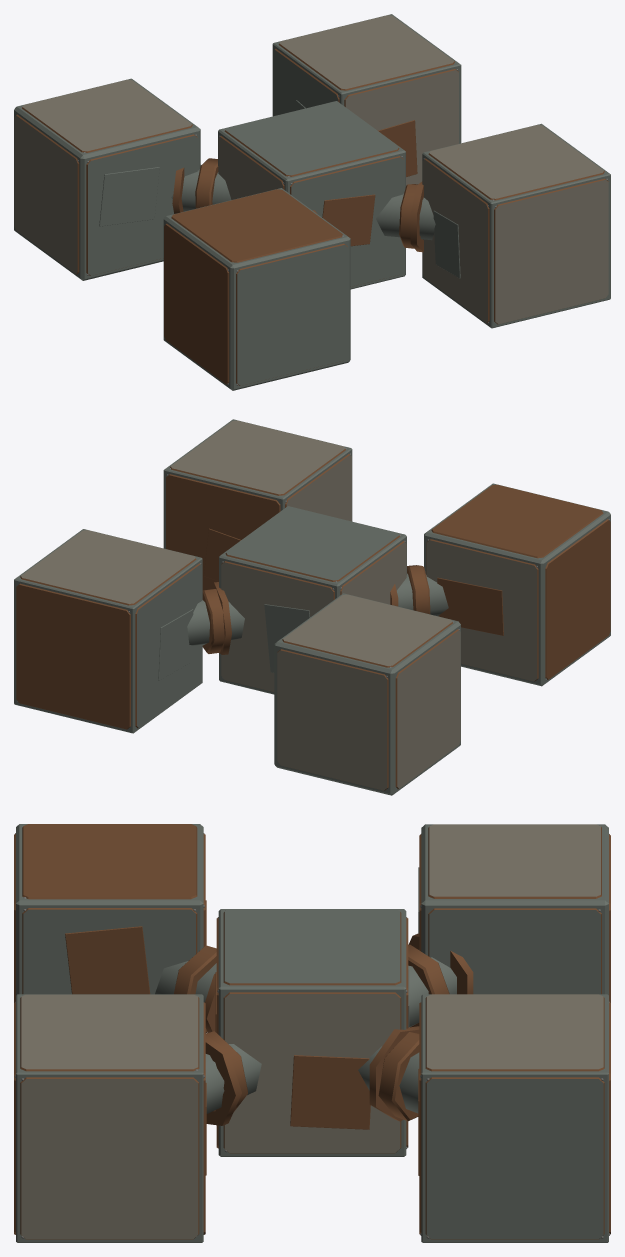
File: R4C_STRUT_CROSS.fbx
3 renders of one model, top to bottom at view 1: azimuth 30°, elevation 25°; view 2: azimuth 150°, elevation 25°; view 3: azimuth 270°, elevation 25°, orthographic. The views are drawn at different scales.
Visible parts, largest first — view 1: R4C_STRUT_CROSS; view 2: R4C_STRUT_CROSS; view 3: R4C_STRUT_CROSS.
Boxes of the visible parts, box(x1,y1,x2,y2) form: R4C_STRUT_CROSS: box(14, 14, 610, 390); R4C_STRUT_CROSS: box(14, 419, 610, 795); R4C_STRUT_CROSS: box(14, 824, 610, 1242).
Size of the model in its own units: 1.62 by 0.52 by 1.62.
